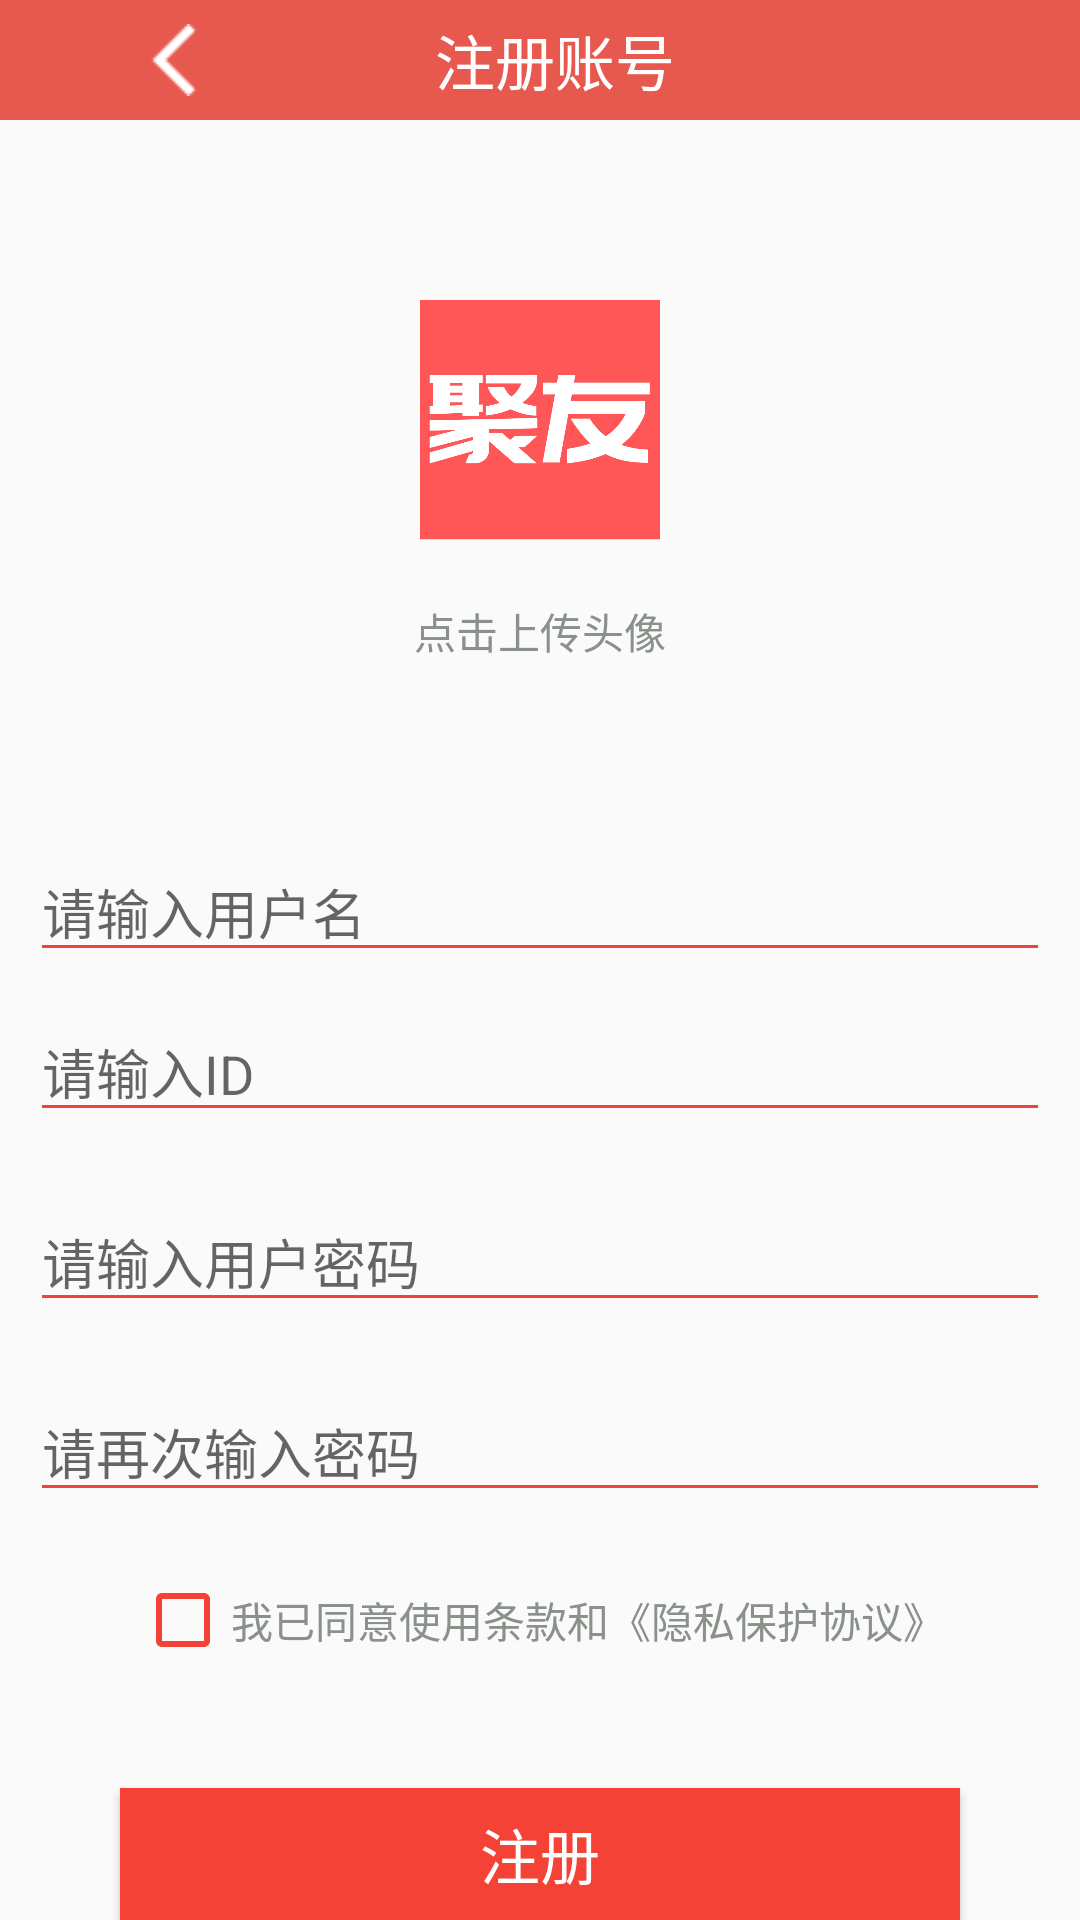

Icon bounding boxes for this 1080 x 1920 phone screenshot, format (x1, y1, x2, y2):
left: (152, 24, 195, 96)
